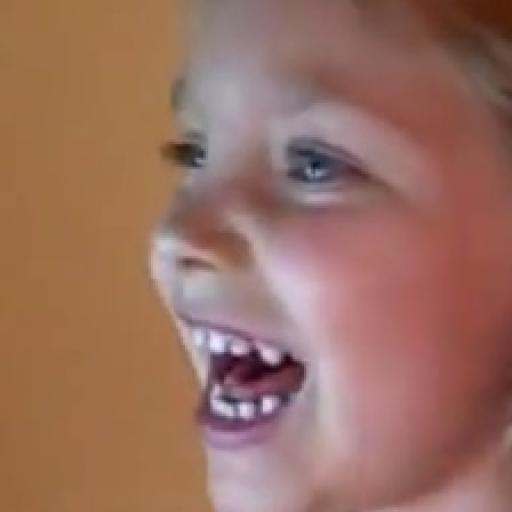Autism: (131, 13, 486, 512)
